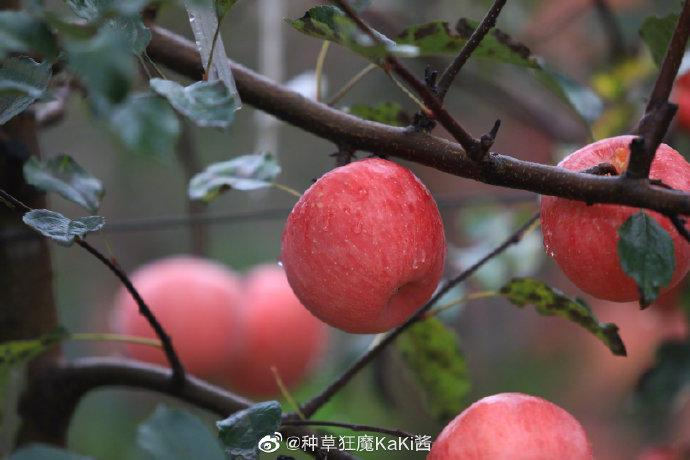apple: (278, 153, 443, 334), (538, 133, 684, 302)
